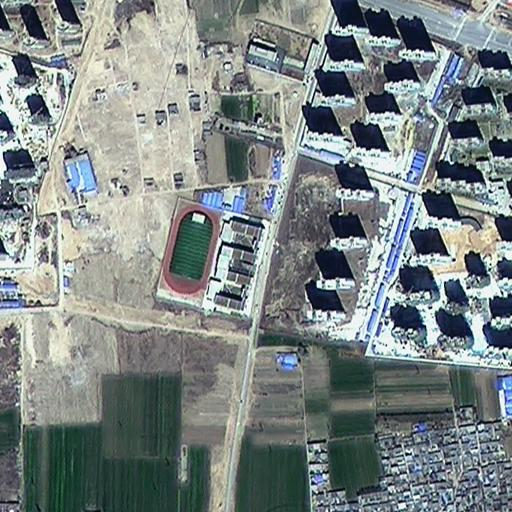school: (151, 194, 271, 318)
